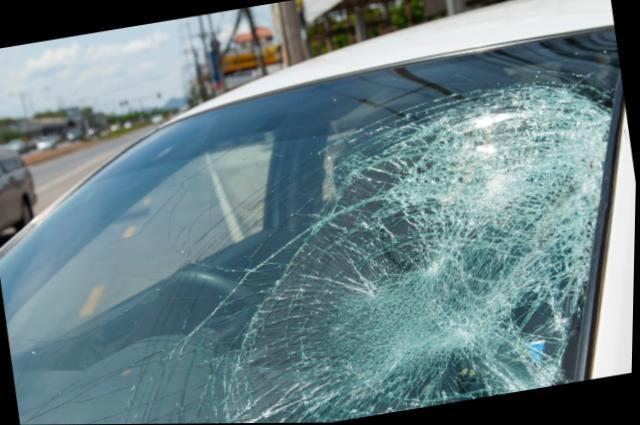glass shatter: (0, 30, 621, 425)
